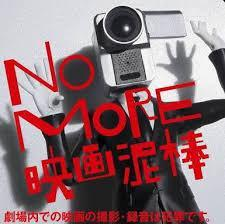no more kid: (92, 4, 188, 93)
